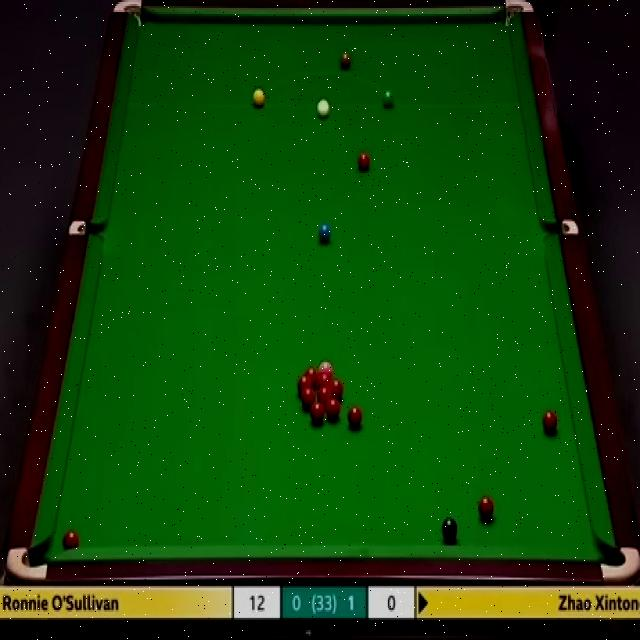black-ball: (441, 518, 459, 543)
blue-ball: (317, 222, 332, 245)
brown-ball: (339, 52, 352, 72)
green-ball: (381, 90, 396, 110)
pink-ball: (319, 362, 333, 372)
red-ball: (478, 496, 495, 521), (356, 150, 372, 173), (542, 411, 558, 434), (348, 407, 363, 429), (325, 399, 340, 421), (64, 529, 79, 549), (311, 403, 324, 424), (298, 376, 314, 392), (302, 388, 314, 409), (305, 369, 319, 387), (330, 380, 343, 399), (318, 387, 332, 402), (318, 371, 330, 388)
white-ball: (317, 98, 330, 119)
yellow-ball: (252, 88, 266, 108)
